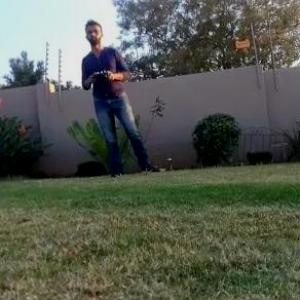follow: (79, 15, 157, 181)
